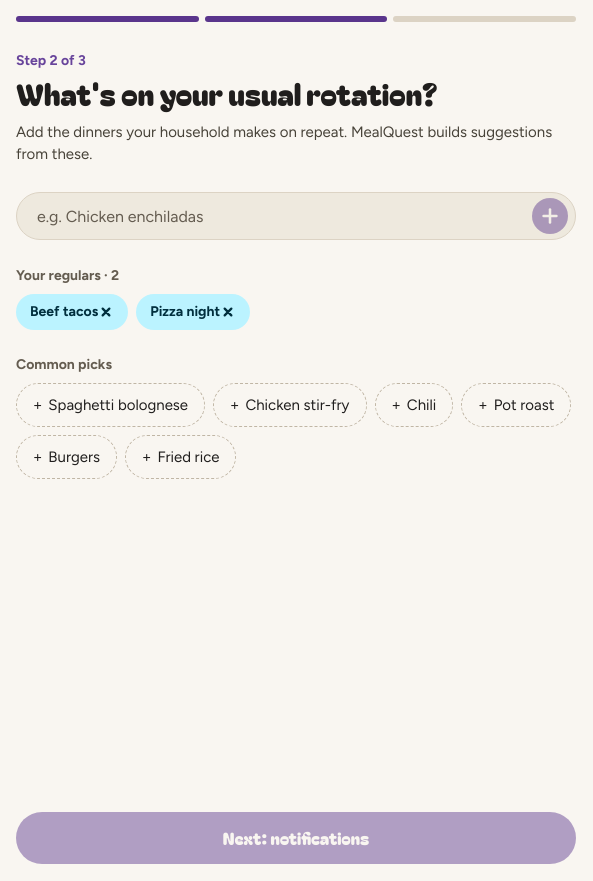
it: onboarding step 2 (mock 1h) › removes a Regular at once and archives it on the server
Expected: the heading "Common picks" is shown, [16,356,112,373]
Click the button named "Remove Beef tacos" at {"x": 106, "y": 312}, box [84,290,128,334]
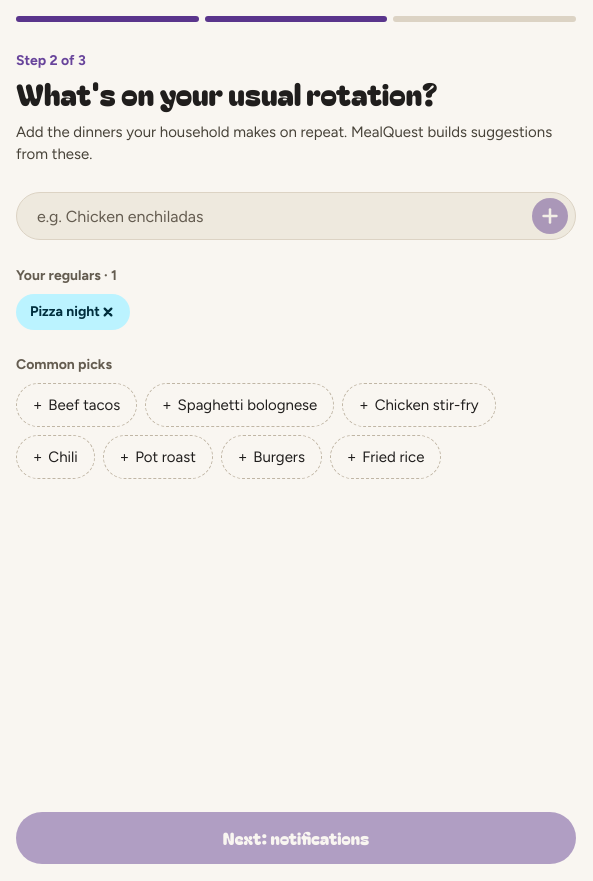
Expected: the heading "Your regulars · 1" is shown, [16,267,117,284]
Expected: the button with aria-label "Add Beef tacos" is shown, [16,383,137,427]
